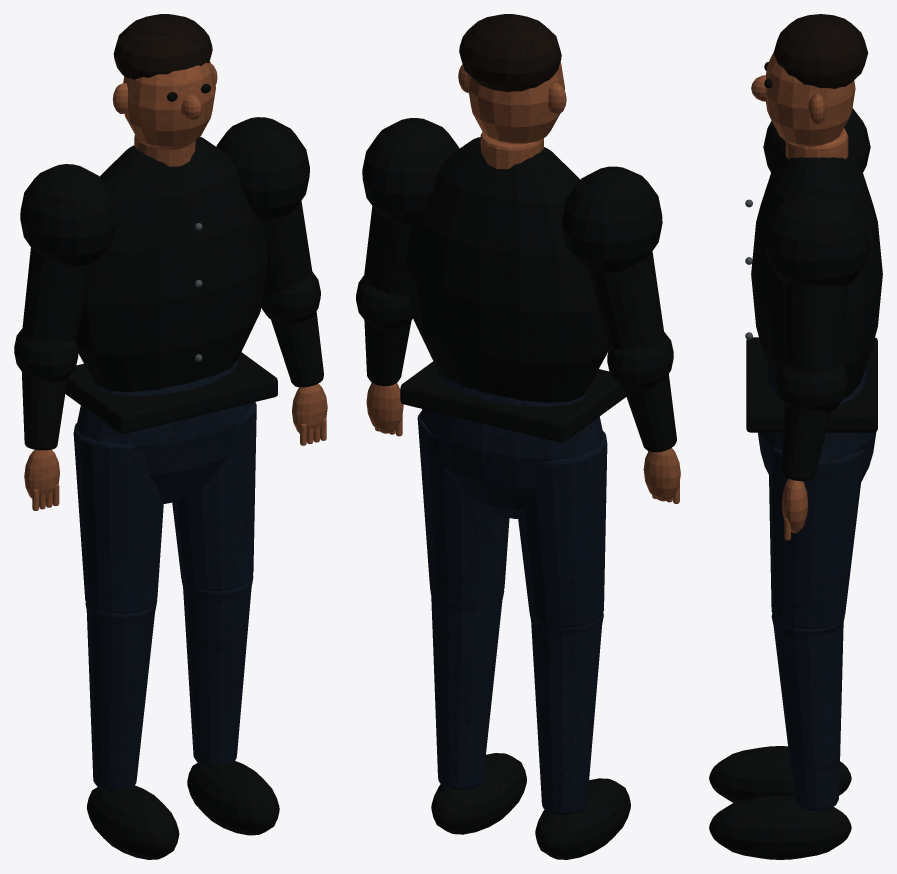
File: PROP-EE7B1BE6B145_lod0.glb
3 views of the same model, side by side, from view 1: azimuth 30°, elevation 25°; view 2: azimuth 150°, elevation 25°; view 3: azimuth 270°, elevation 25° (orthographic). The views are drawn at different scales.
Visible parts, largest first — view 1: torso.006, thigh.006, calf.006, shoulder.006, shoe.006, pelvis.006, upper_arm.006, belt.006, head.006, forearm.006, hair_cap.006, elbow_protection.002 (+4 smaller); view 2: torso.006, thigh.006, calf.006, shoulder.006, pelvis.006, shoe.006, upper_arm.006, belt.006, hair_cap.006, forearm.006, elbow_protection.002, head.006 (+4 smaller); view 3: thigh.006, torso.006, shoe.006, shoulder.006, calf.006, hair_cap.006, upper_arm.006, belt.006, head.006, forearm.006, elbow_protection.002, pelvis.006 (+4 smaller).
Part boxes in pixels (x1,y1,x2,y2): torso.006: (76,137,268,392); thigh.006: (73,402,256,613); calf.006: (86,588,251,791); shoulder.006: (20,117,309,266); shoe.006: (87,761,279,859); pelvis.006: (76,361,253,503); upper_arm.006: (22,200,312,341); belt.006: (65,352,277,434); head.006: (123,61,215,150); forearm.006: (21,311,323,450); hair_cap.006: (113,14,212,79); elbow_protection.002: (14,271,320,382); torso.006: (405,137,609,402); thigh.006: (417,411,607,627); calf.006: (431,597,602,814); shoulder.006: (362,118,662,273); pelvis.006: (420,370,603,518); shoe.006: (431,753,630,859); upper_arm.006: (364,206,664,349); belt.006: (400,361,626,442); hair_cap.006: (459,14,561,91); forearm.006: (364,320,676,452); elbow_protection.002: (356,275,673,391); head.006: (467,62,564,143); thigh.006: (768,446,864,628); torso.006: (751,150,882,398); shoe.006: (709,746,851,859); shoulder.006: (763,108,870,286); calf.006: (773,622,843,810); hair_cap.006: (773,14,867,88); upper_arm.006: (782,283,848,373); belt.006: (746,337,877,432); head.006: (765,53,855,147); forearm.006: (781,405,831,481); elbow_protection.002: (775,362,848,412); pelvis.006: (758,369,876,481).
Size of the model in its own units: 0.7175 by 1.84 by 0.3561.
Materials: 5 (5 with a texture image).
